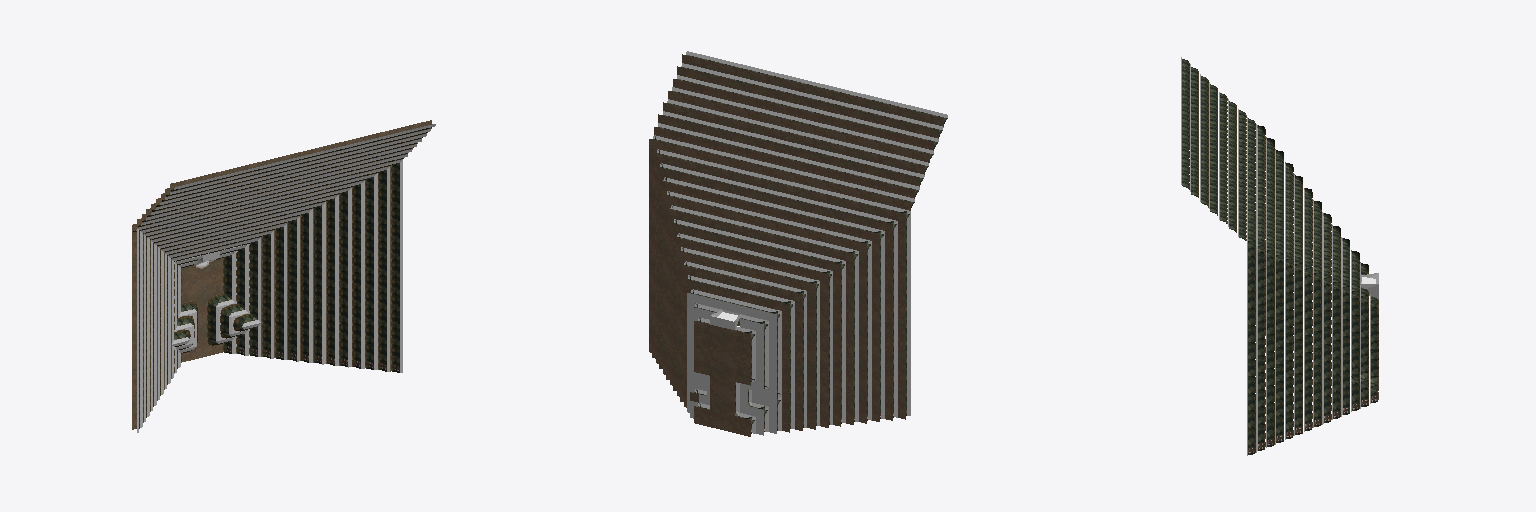
3 views of the same model, side by side, from view 1: azimuth 30°, elevation 25°; view 2: azimuth 150°, elevation 25°; view 3: azimuth 270°, elevation 25° (orthographic).
Visible parts, largest first — view 1: map; view 2: map; view 3: map.
Boxes of the visible parts, box(x1,y1,x2,y2) form: map: box(132, 120, 435, 432); map: box(649, 51, 947, 436); map: box(1181, 57, 1378, 455).
Bounding box in the file's own units: 32 × 32 × 21.
Materials: 10 (6 with a texture image).